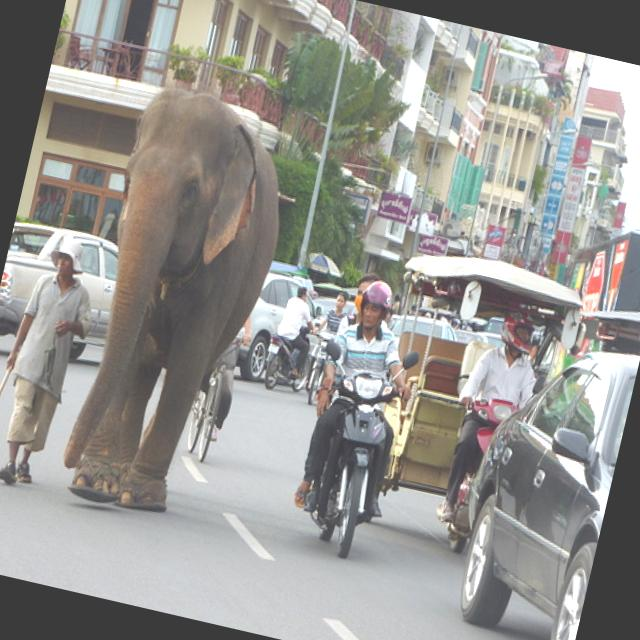Vehicle: (426, 323, 640, 640), (276, 333, 422, 568), (0, 215, 128, 378), (438, 392, 518, 561), (231, 270, 330, 394), (290, 309, 340, 408), (260, 330, 316, 396), (307, 280, 359, 323), (451, 328, 490, 348)
